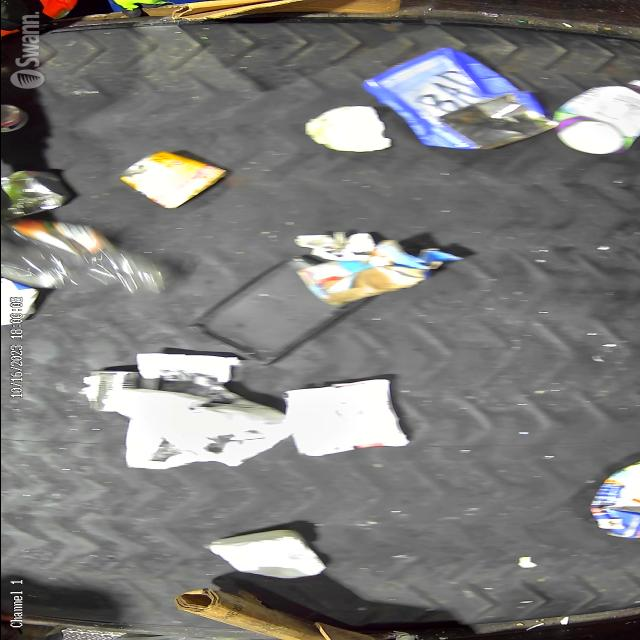can: (117, 150, 228, 210), (0, 169, 72, 215), (0, 103, 28, 133)
non_white_jug: (554, 79, 640, 155), (586, 460, 640, 538)
